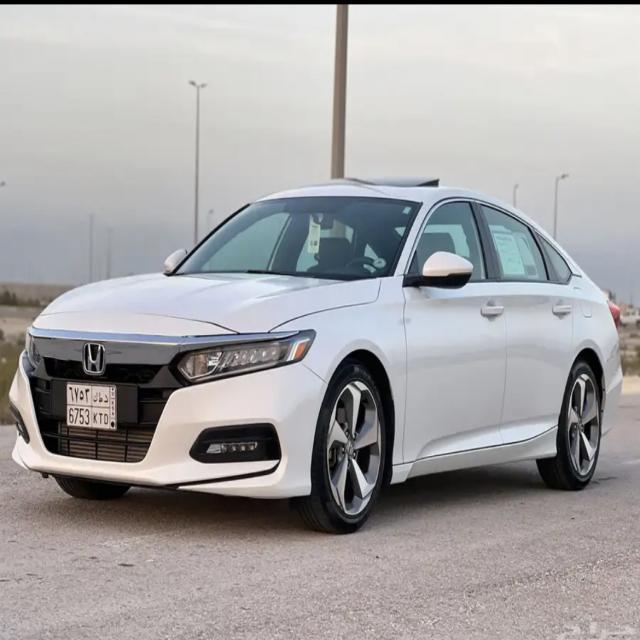license_plate: (65, 386, 116, 430)
